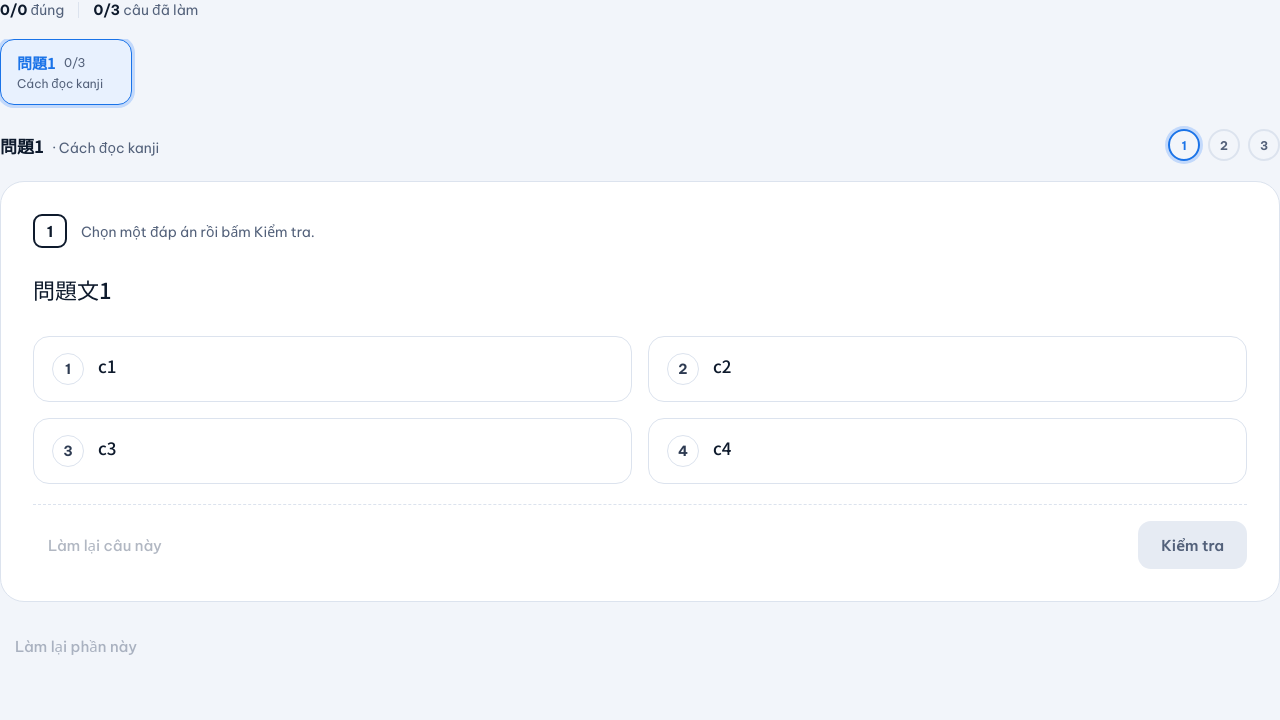
Test: PaperWorkspace › stays on the question just answered instead of jumping to the next unanswered one
The width and height of the screenshot is (1280, 720).
expect the text "問題文1" is shown: met, box [33,273,112,305]
Click the radio button labelled "2 c2": (683,369) [648,336,1247,402]
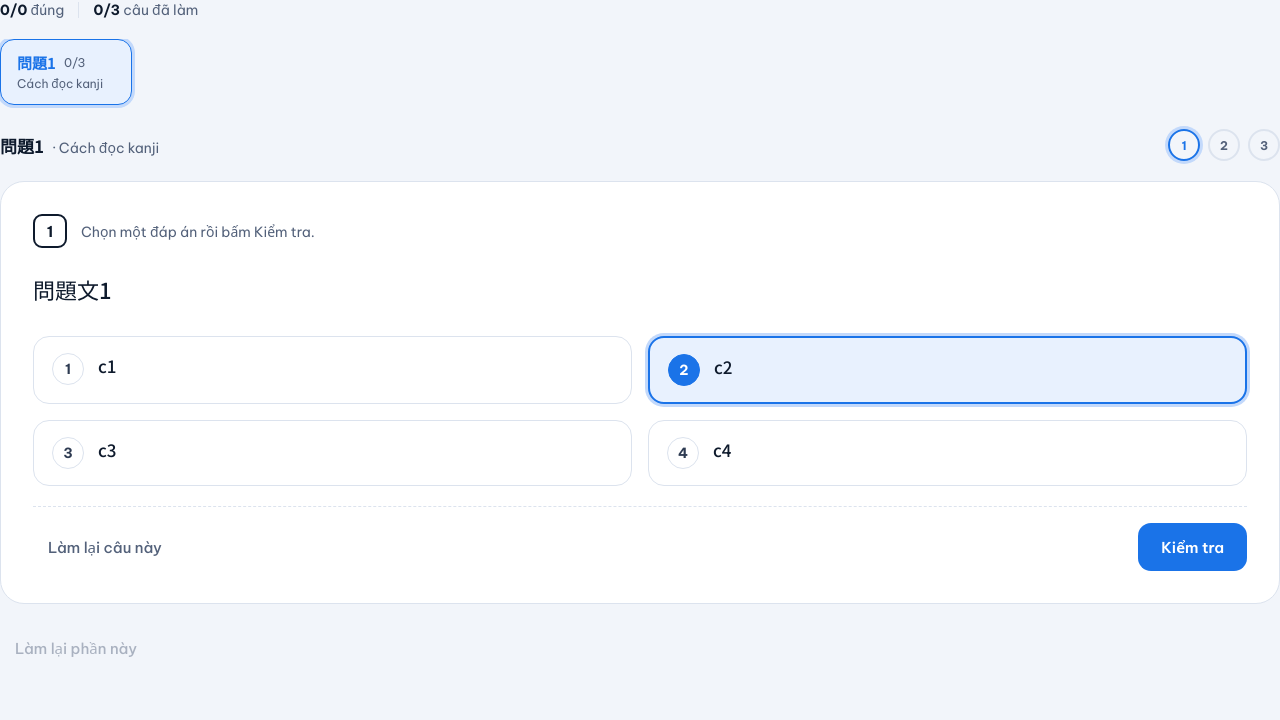
Click the button "Kiểm tra": (1193,547) [1138,523,1247,571]
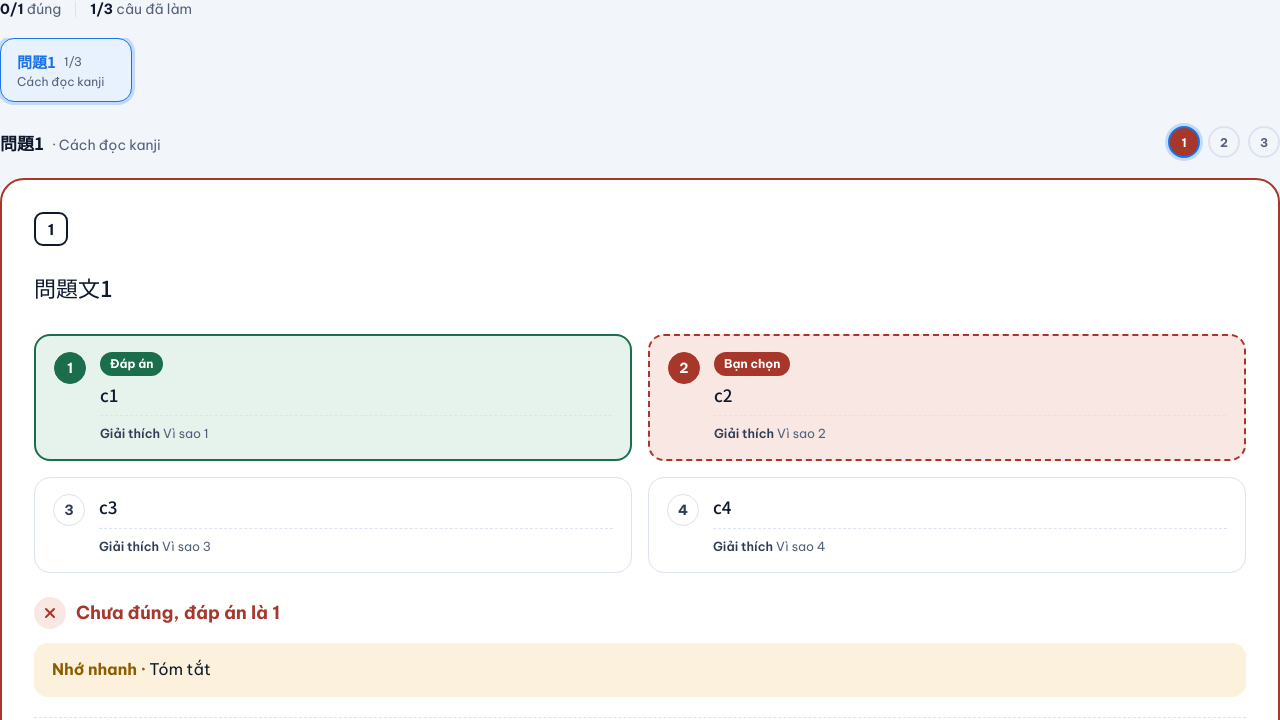
expect the text "問題文1" is shown: met, box [34,271,112,303]
expect the text "Vì sao 1" is shown: met, box [163,425,209,441]
